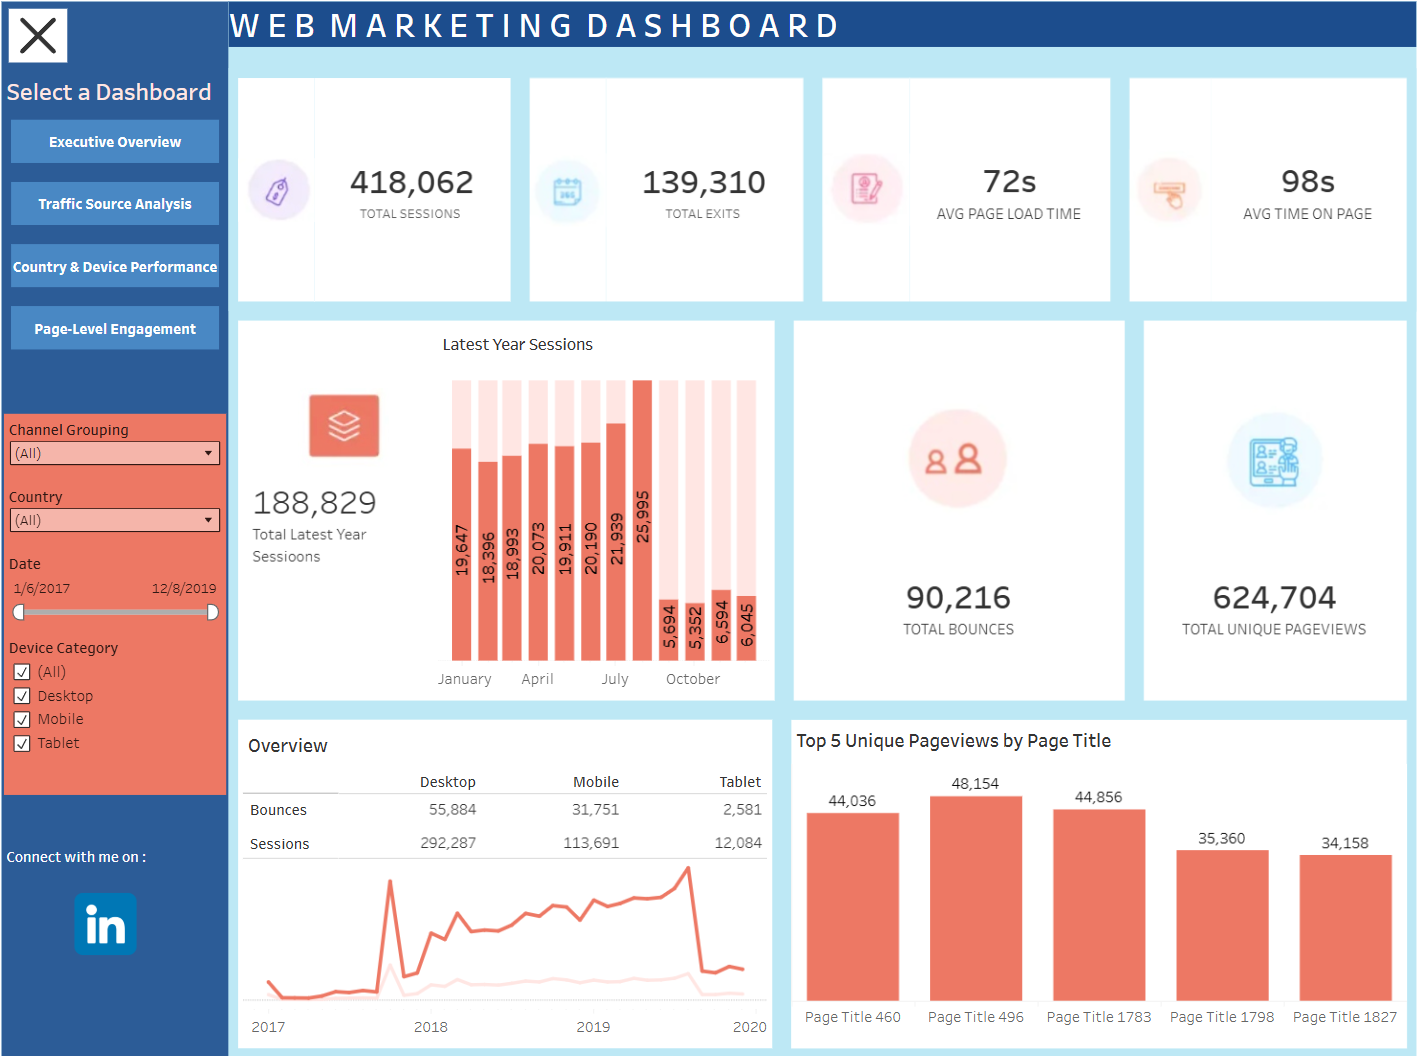

What the dashboard file says about the page in this screenshot:
{"tool":"tableau","page":{"name":"Executive Overview","canvas":[1200,900],"ordinal":1},"visuals":[{"type":"blank","box":[8,8,190,56]},{"type":"text","box":[198,8,994,45]},{"type":"dashboard-object","box":[14,14,49,45]},{"type":"text","box":[8,64,190,72]},{"type":"image","param":"Image/1.png","box":[198,64,72,203]},{"type":"worksheet","title":"Sessions","mark":"Automatic","box":[270,64,172.3,203]},{"type":"image","param":"Image/2.png","box":[442.3,64,72,203]},{"type":"worksheet","title":"Exits","mark":"Automatic","box":[514.3,64,172.3,203]},{"type":"image","param":"Image/3ish.png","box":[686.6,64,81,203]},{"type":"worksheet","title":"Load Time","mark":"Automatic","box":[767.6,64,176,203]},{"type":"image","param":"Image/4.png","box":[943.6,64,76,203]},{"type":"worksheet","title":"Time On Page","mark":"Automatic","box":[1019.7,64,172.3,203]},{"type":"dashboard-object","box":[8,136,190,52]},{"type":"dashboard-object","box":[8,188,190,52]},{"type":"dashboard-object","box":[8,240,190,52]},{"type":"worksheet","title":"Bar","mark":"Bar","rows":["Calculation_0613548844900353","Sessions"],"cols":["Date"],"box":[373,275,282,318]},{"type":"blank","box":[671,275,277,61]},{"type":"blank","box":[964,275,220,70]},{"type":"blank","box":[214,285,155,37.5]},{"type":"dashboard-object","box":[8,292,190,52]},{"type":"image","param":"Image/5.png","box":[210,326.5,163,75]},{"type":"image","param":"Image/6.png","box":[671,336,277,102]},{"type":"blank","box":[8,344,190,210]},{"type":"image","param":"Image/7.png","box":[964,345,220,93]},{"type":"filter","title":"Sessions","param":"[federated.0g6xm690gjbdcr16oj8ww0z68q8a].[none:Channel Grouping:nk]","box":[10,353,186,61]},{"type":"worksheet","title":"Bar KPi","mark":"Text","box":[210,401.5,163,187.5]},{"type":"filter","title":"Sessions","param":"[federated.0g6xm690gjbdcr16oj8ww0z68q8a].[none:Country:nk]","box":[10,414,186,92.5]},{"type":"worksheet","title":"Bounces","mark":"Automatic","box":[671,438,277,155]},{"type":"worksheet","title":"Unique Pageviews","mark":"Automatic","box":[964,438,220,155]},{"type":"filter","title":"Sessions","param":"[federated.0g6xm690gjbdcr16oj8ww0z68q8a].[none:Date:qk]","box":[10,506.5,186,73]},{"type":"text","box":[8,554,190,338]},{"type":"filter","title":"Sessions","param":"[federated.0g6xm690gjbdcr16oj8ww0z68q8a].[none:Device Category:nk]","box":[10,579.5,186,92.5]},{"type":"worksheet","title":"Top 5 Pageviews","mark":"Automatic","rows":["Pageviews"],"cols":["Page Title"],"box":[661,601,531,291]},{"type":"worksheet","title":"Line KPIs","mark":"Automatic","cols":["Device Category"],"box":[206,609,447,120]},{"type":"worksheet","title":"Line","mark":"Line","rows":["Bounces","Sessions"],"cols":["Date"],"box":[206,729,447,155]},{"type":"image","param":"Image/linkedin.png","box":[62,754,65,52]}]}

Visuals, with their boxes in screenshot pixels (x1, y1, x2, y2), scaled from the page's 1200x900 canvas onto the 1422x1056 screenshot:
blank: [9,9,235,75]
text: [235,9,1413,62]
dashboard-object: [17,16,75,69]
text: [9,75,235,160]
image: [235,75,320,313]
"Sessions" worksheet: [320,75,524,313]
image: [524,75,609,313]
"Exits" worksheet: [609,75,814,313]
image: [814,75,910,313]
"Load Time" worksheet: [910,75,1118,313]
image: [1118,75,1208,313]
"Time On Page" worksheet: [1208,75,1413,313]
dashboard-object: [9,160,235,221]
dashboard-object: [9,221,235,282]
dashboard-object: [9,282,235,343]
"Bar" worksheet (Bar marks): [442,323,776,696]
blank: [795,323,1123,394]
blank: [1142,323,1403,405]
blank: [254,334,437,378]
dashboard-object: [9,343,235,404]
image: [249,383,442,471]
image: [795,394,1123,514]
blank: [9,404,235,650]
image: [1142,405,1403,514]
"Sessions" filter: [12,414,232,486]
"Bar KPi" worksheet (Text marks): [249,471,442,691]
"Sessions" filter: [12,486,232,594]
"Bounces" worksheet: [795,514,1123,696]
"Unique Pageviews" worksheet: [1142,514,1403,696]
"Sessions" filter: [12,594,232,680]
text: [9,650,235,1047]
"Sessions" filter: [12,680,232,788]
"Top 5 Pageviews" worksheet: [783,705,1413,1047]
"Line KPIs" worksheet: [244,715,774,855]
"Line" worksheet (Line marks): [244,855,774,1037]
image: [73,885,150,946]
